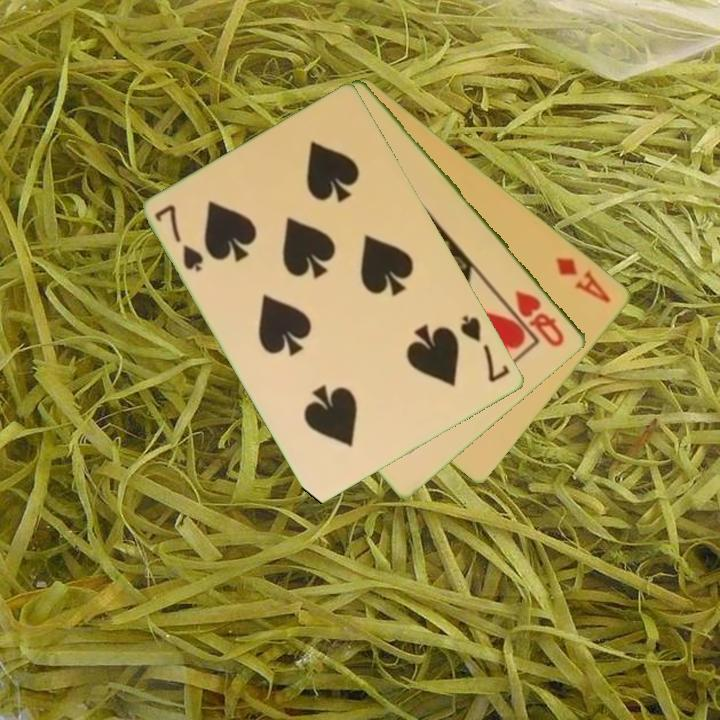7s: (457, 311, 514, 386), (151, 201, 208, 275)
Ad: (553, 253, 614, 306)
Qh: (511, 286, 568, 350)
